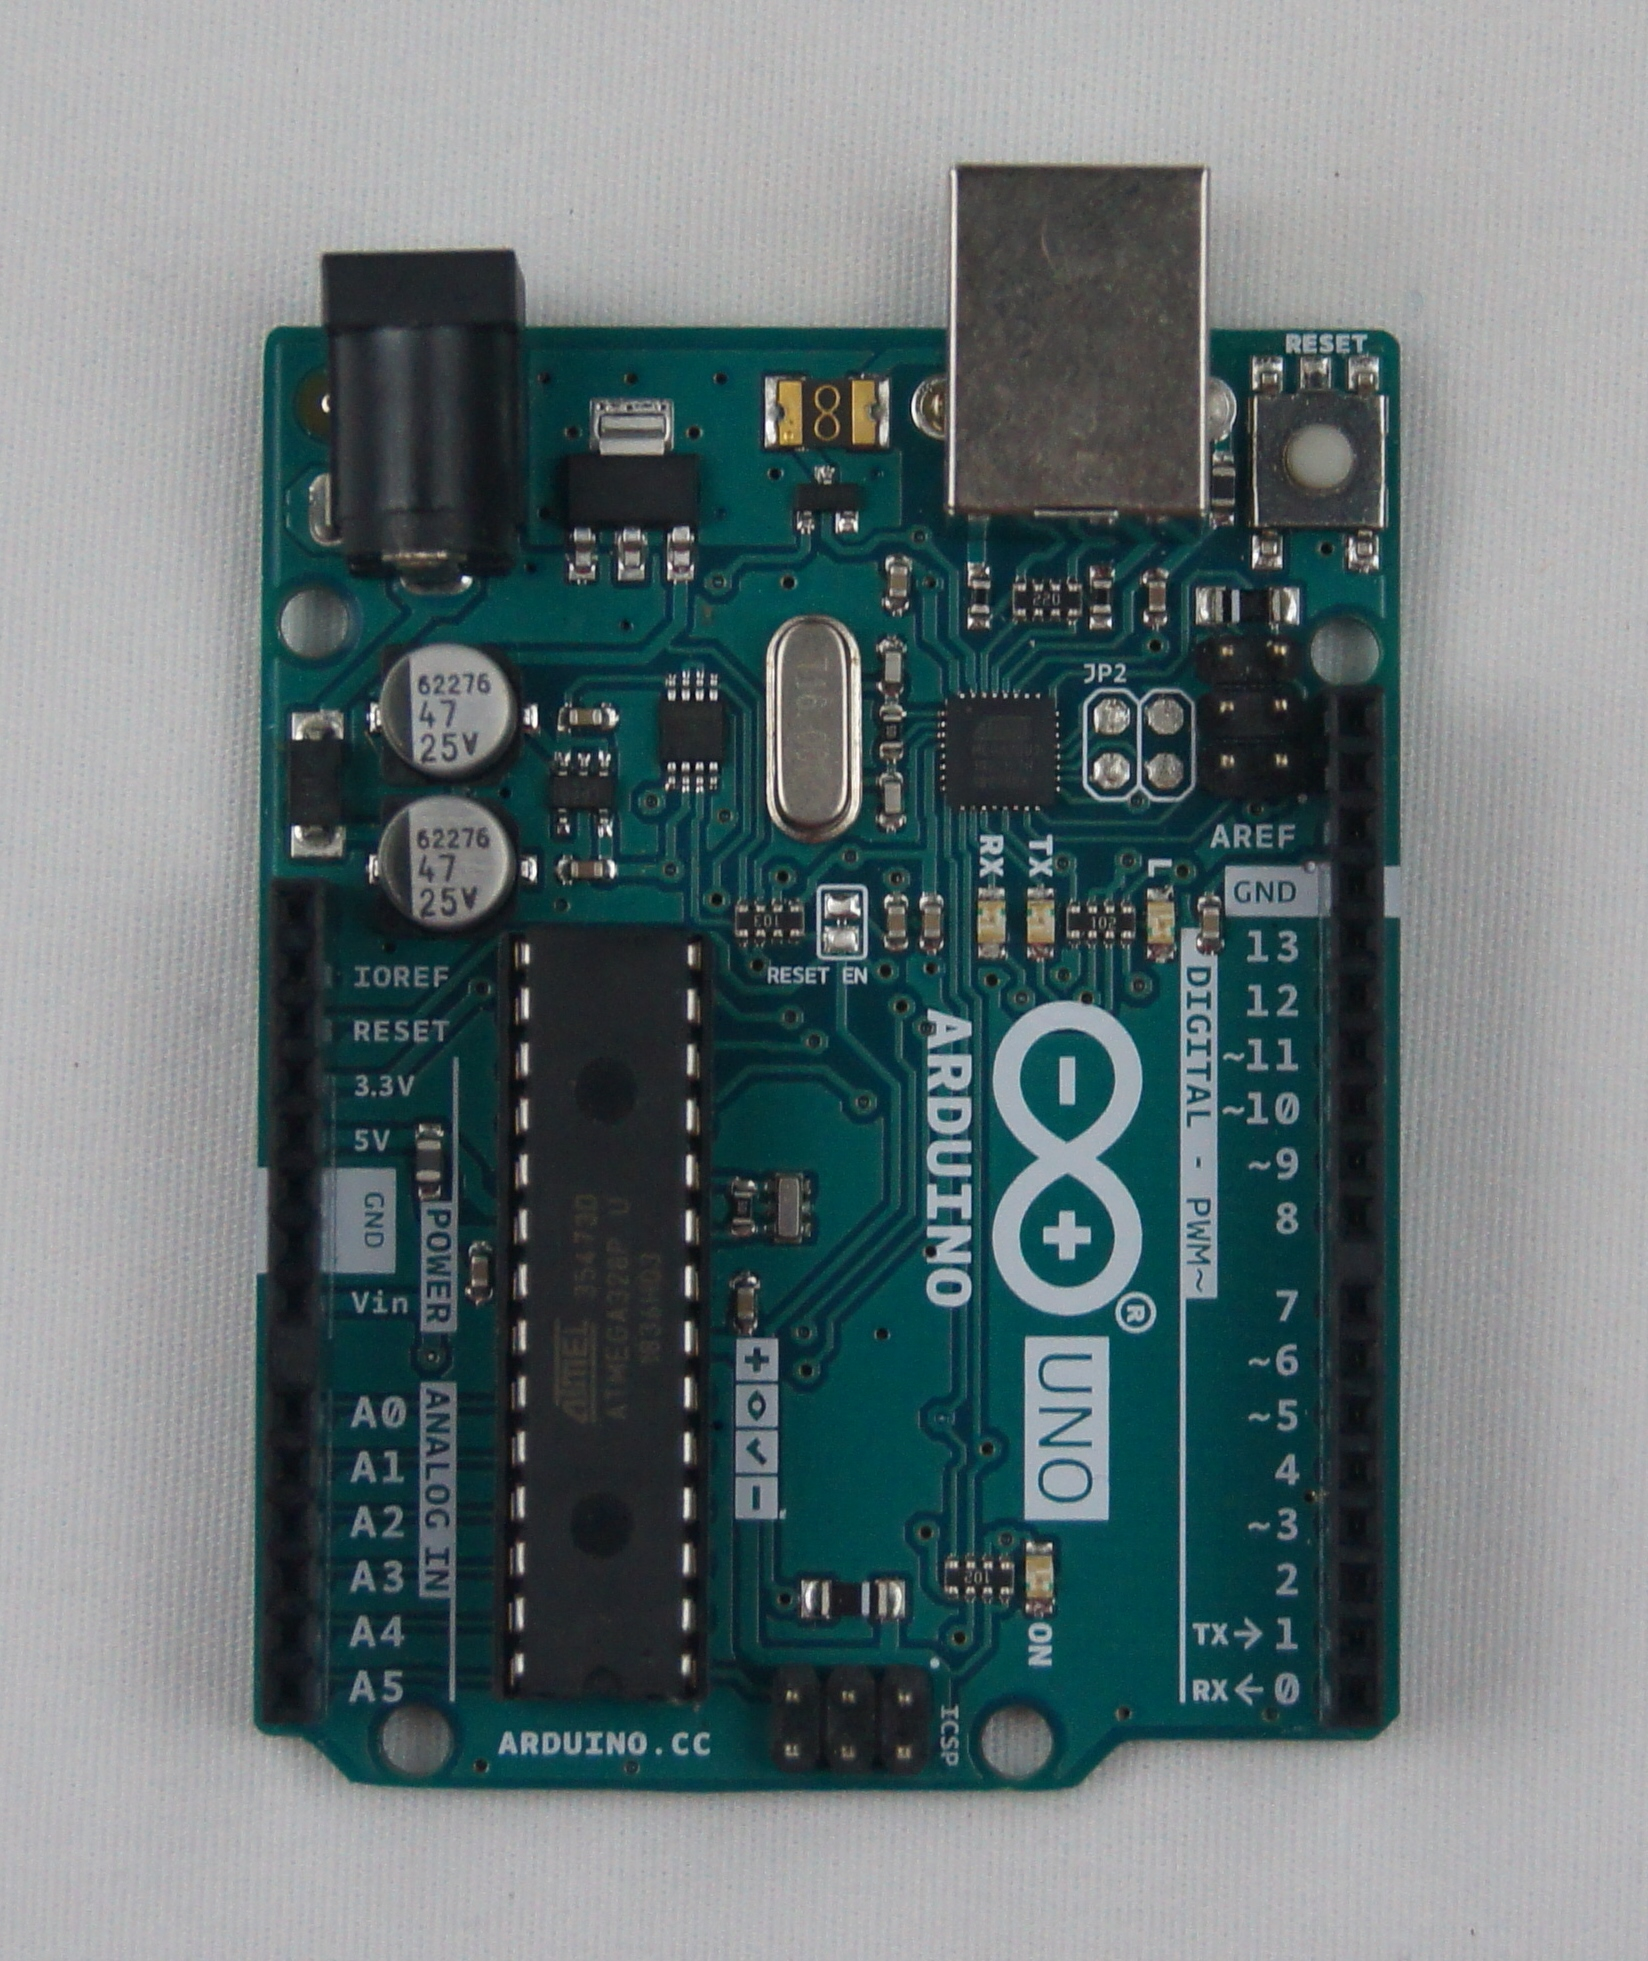connector: (311, 239, 531, 593), (1326, 680, 1390, 1731), (257, 874, 332, 1726), (767, 1662, 930, 1780), (1198, 632, 1301, 794), (1087, 693, 1135, 794), (1143, 693, 1187, 797)
